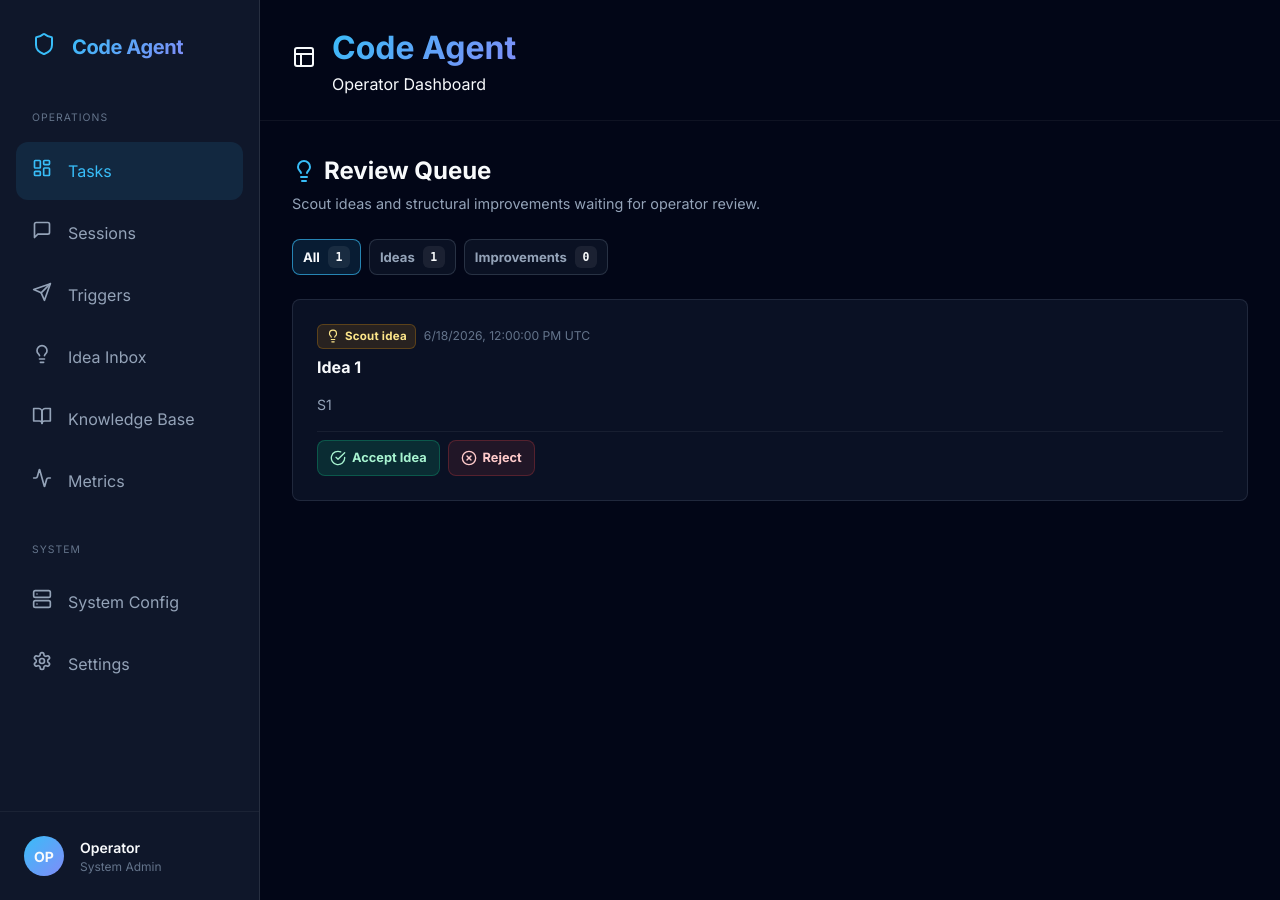
Test: IdeaInboxPage › handles acceptProposal error and displays message
The image size is (1280, 900).
Expected: the heading "Idea 1" is shown, x1=317 y1=357 x2=361 y2=377
What coordinates should you click on to do the following:
click the button "Accept Idea"
I would click on:
 (378, 458)
Its box is x1=317 y1=440 x2=440 y2=476.
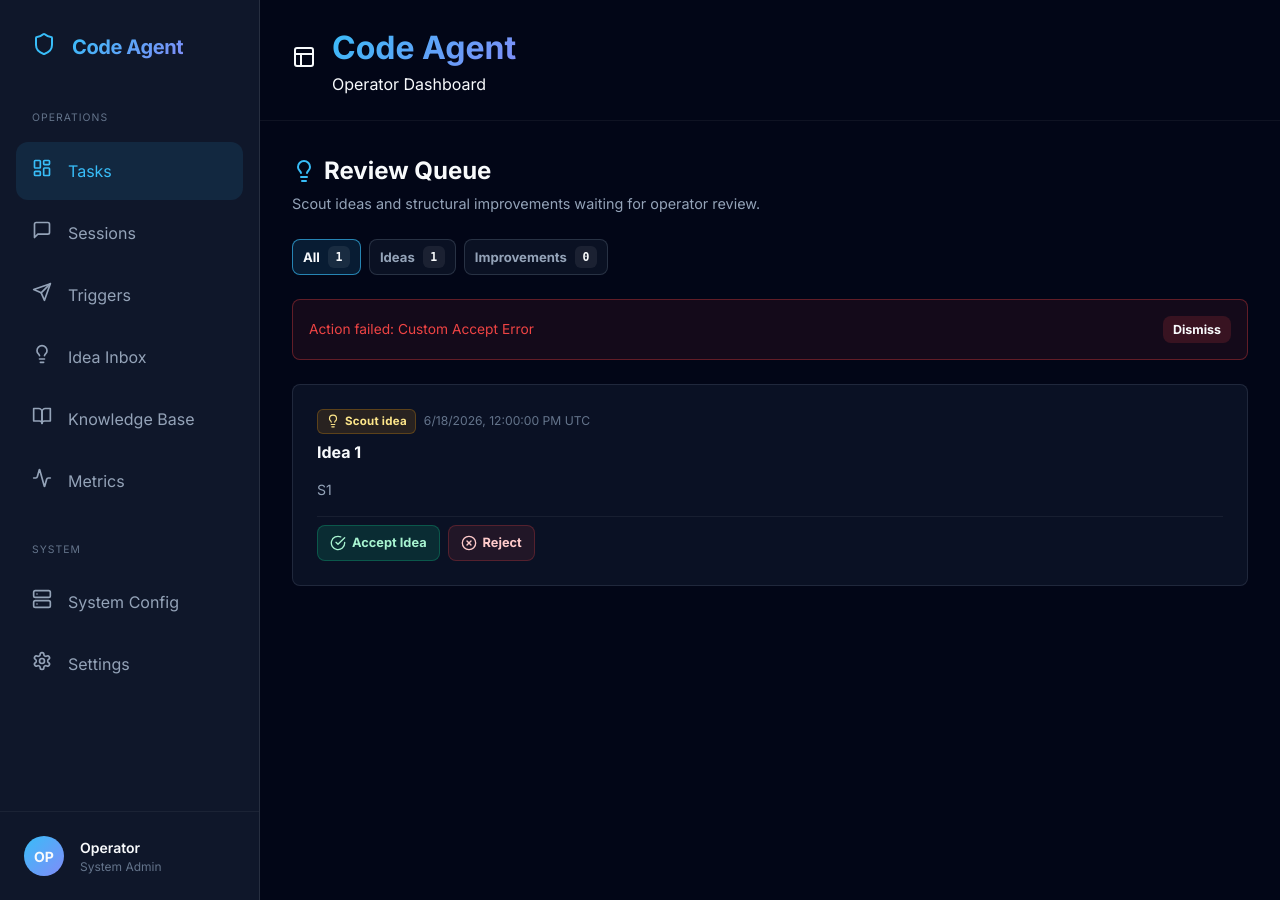
Expected: the text "Action failed: Custom Accept Error" is shown, x1=292 y1=299 x2=1248 y2=360
What coordinates should you click on to do the following:
click the button "Dismiss"
I would click on:
 (1197, 329)
Its box is x1=1163 y1=316 x2=1231 y2=343.
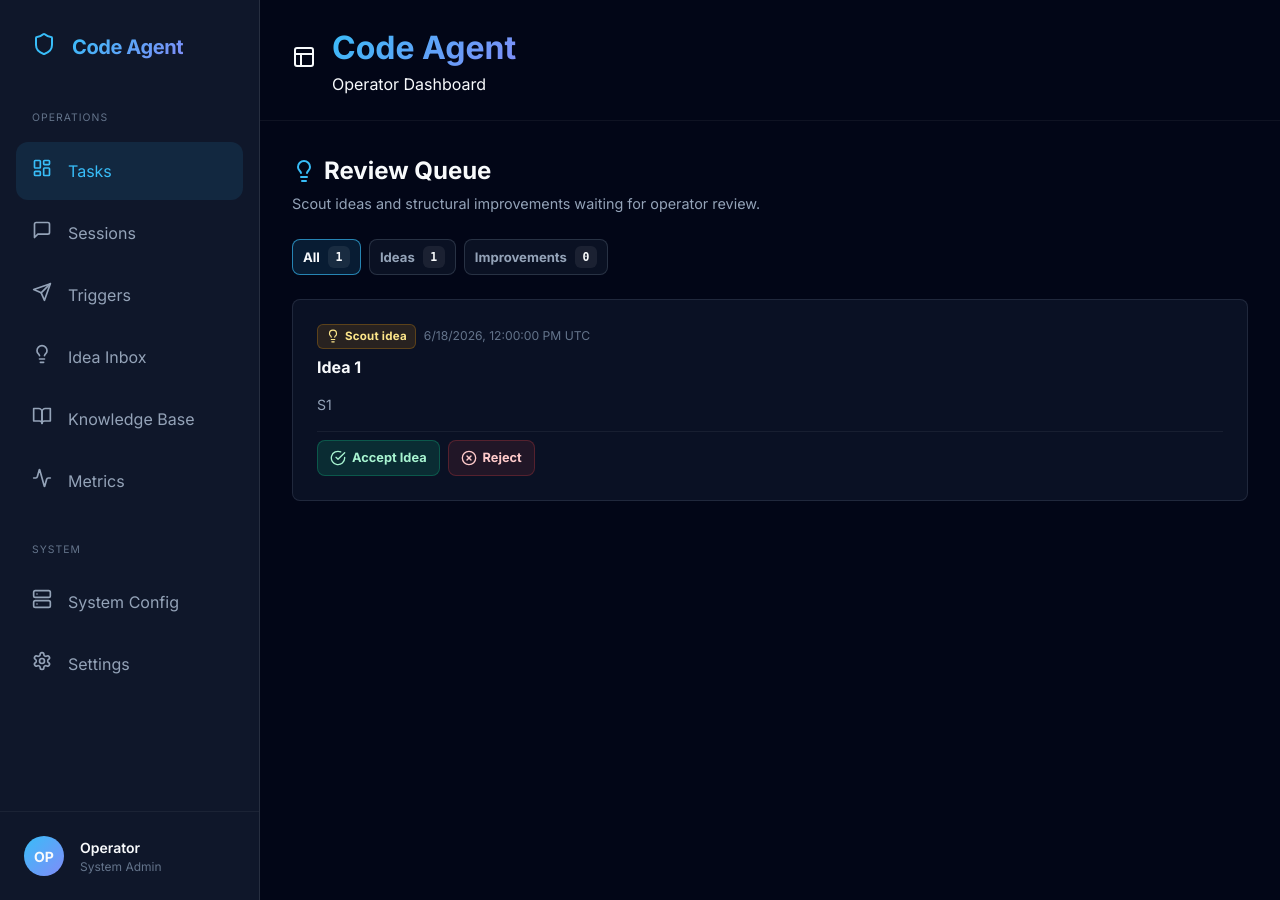
Expected: the text "Action failed: Custom Accept Error" is gone
